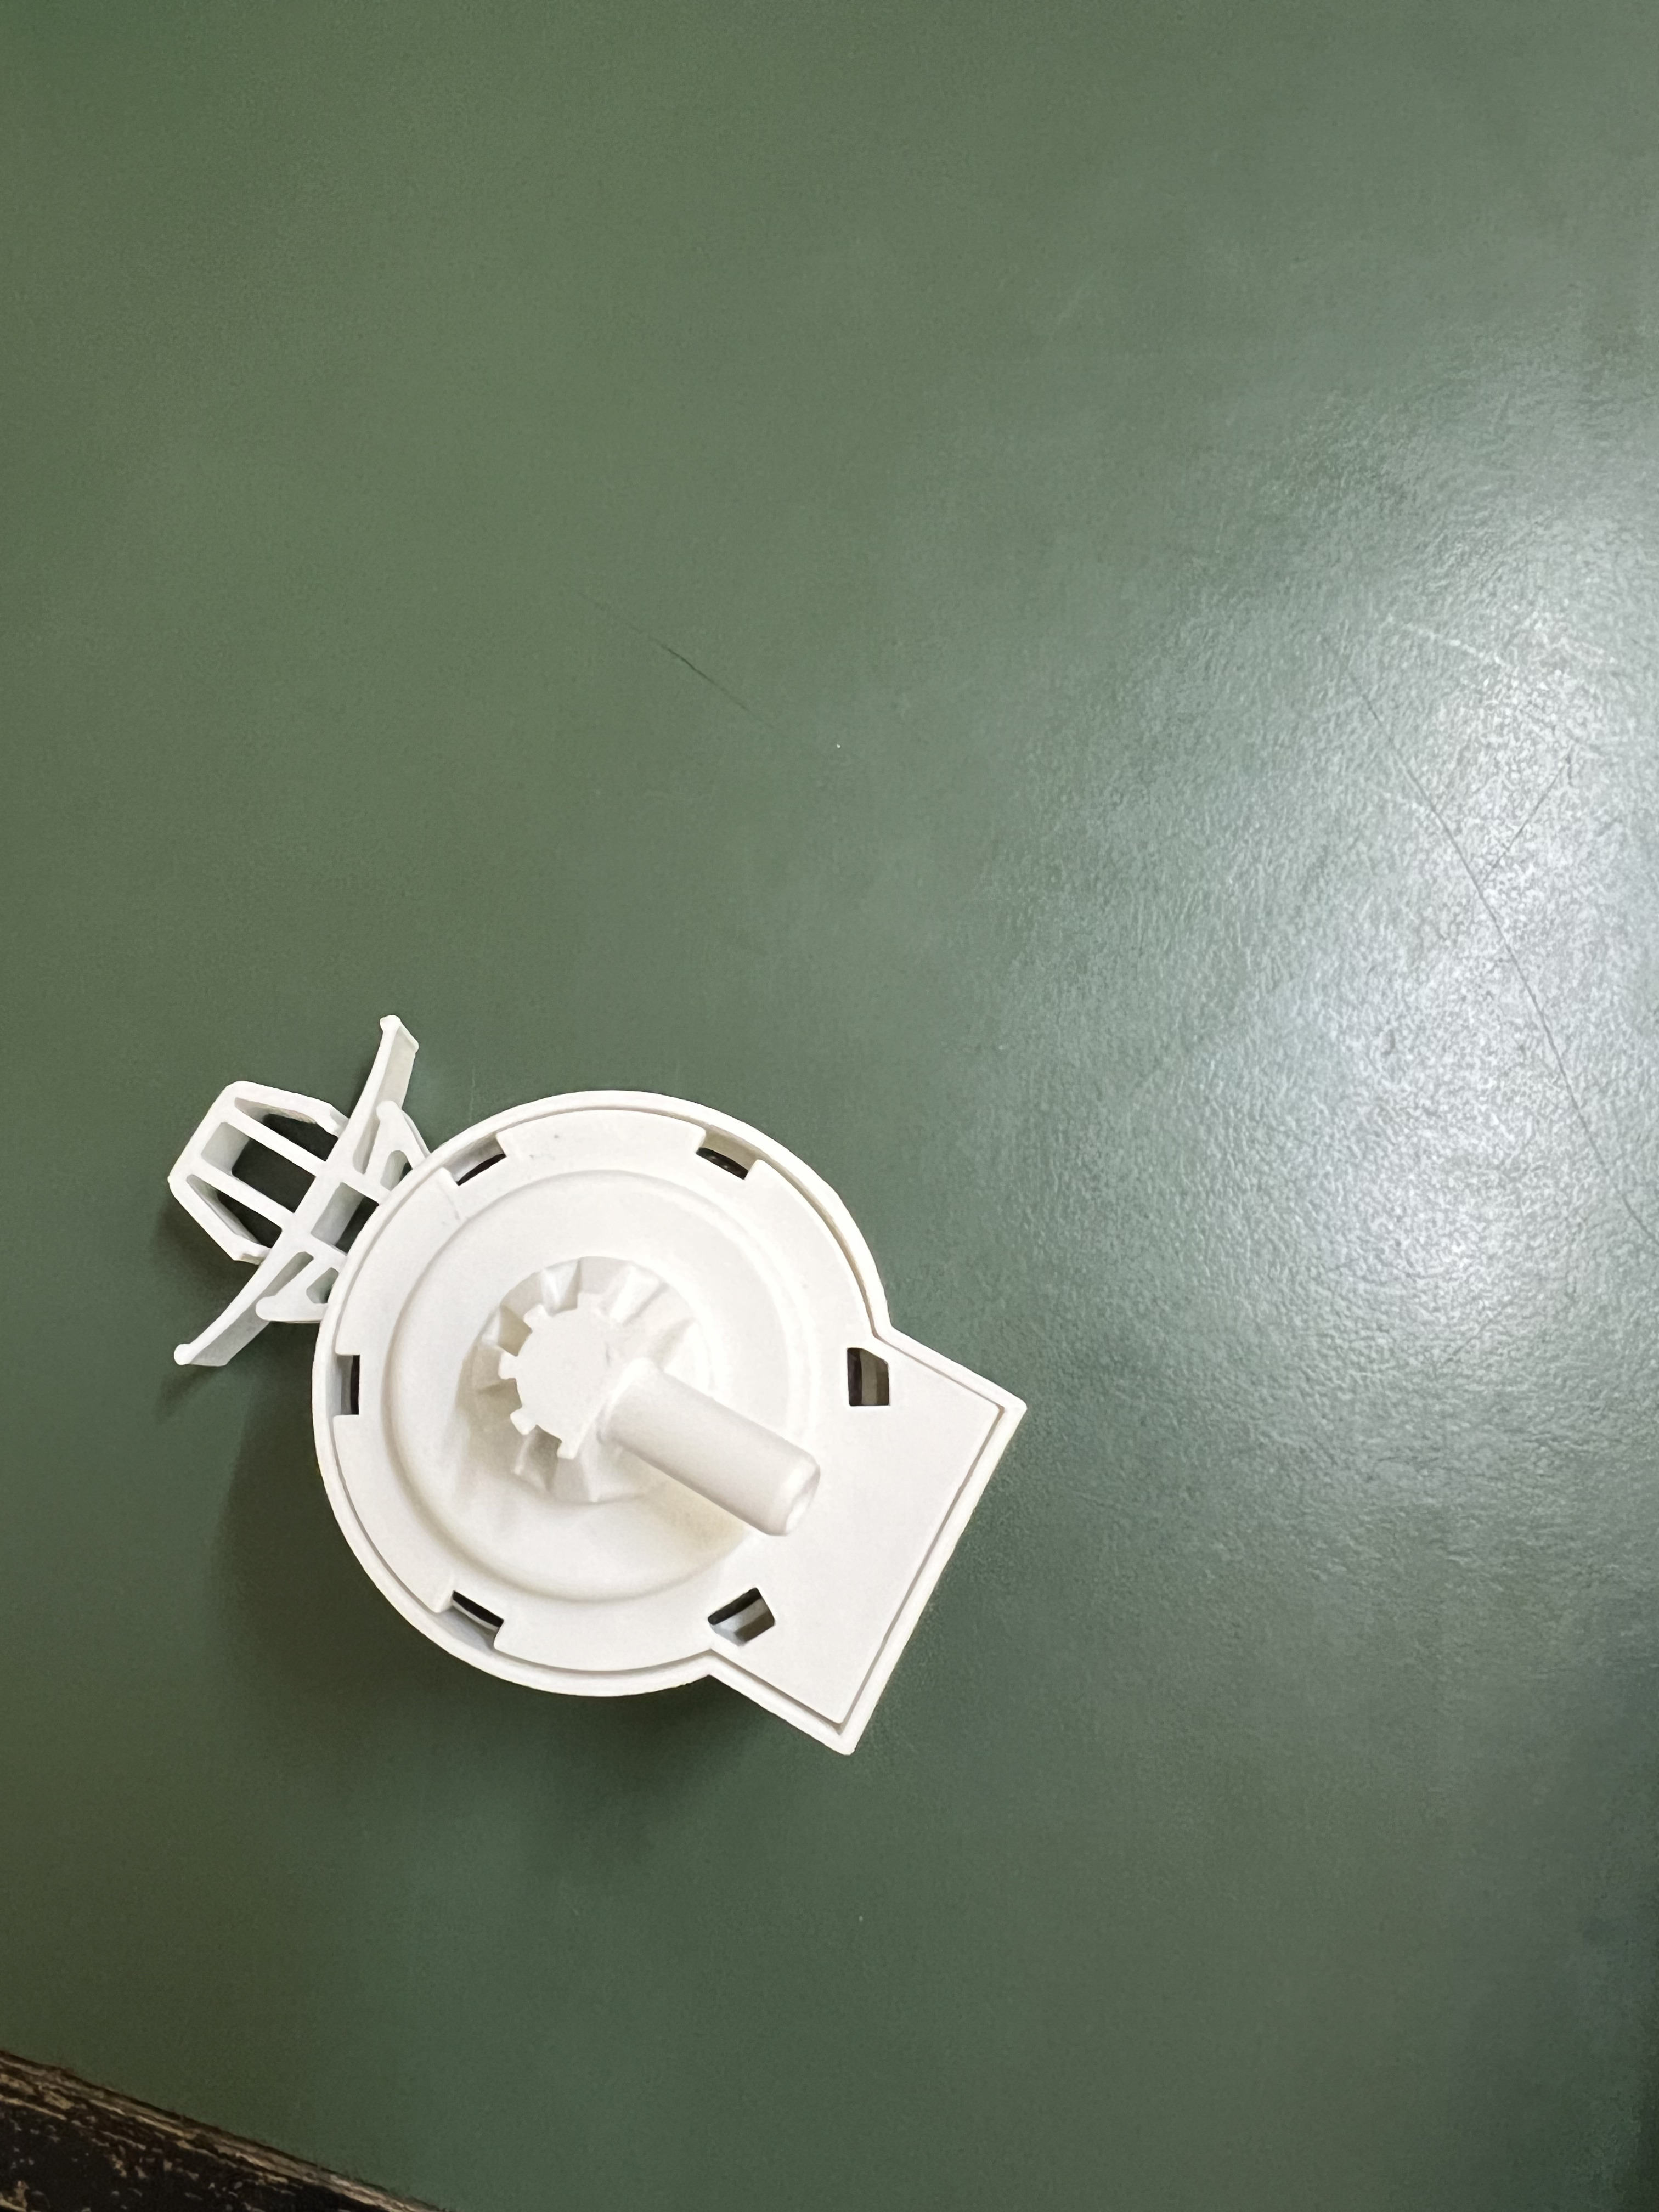pressure_switch_1: (136, 1022, 1024, 1780)
